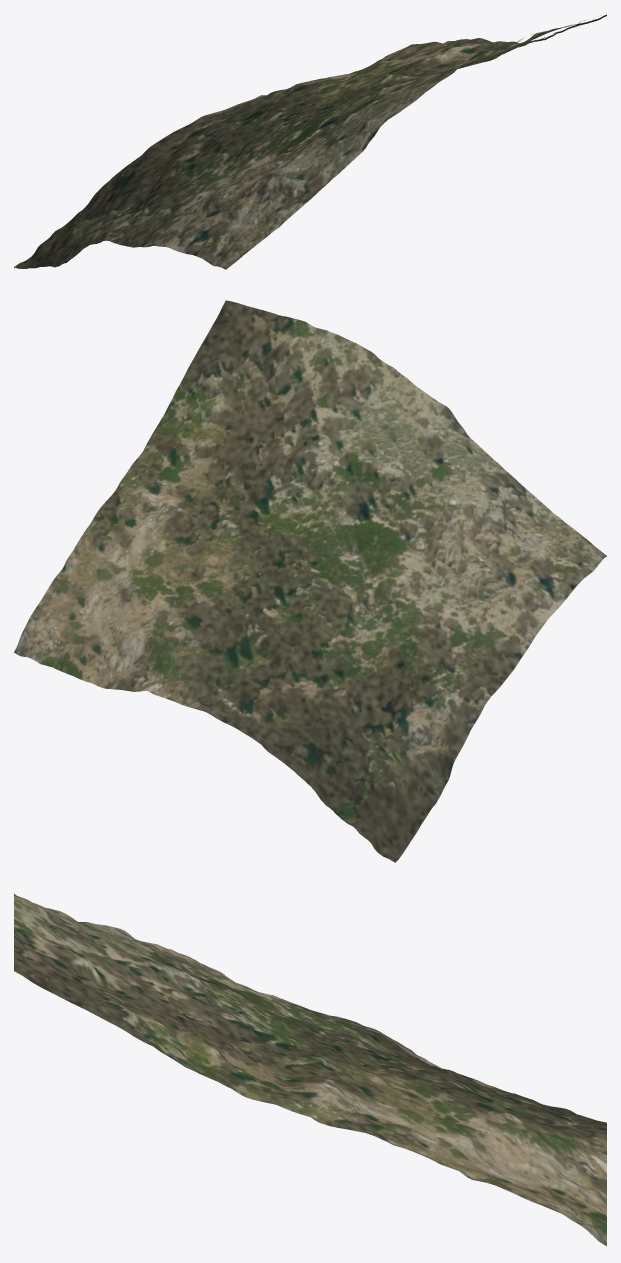
3 views of the same model, one above another, from view 1: azimuth 30°, elevation 25°; view 2: azimuth 150°, elevation 25°; view 3: azimuth 270°, elevation 25° (orthographic). The views are drawn at different scales.
Bounding box in the file's own units: 250 × 198 × 241.
Materials: 1 (1 with a texture image).
